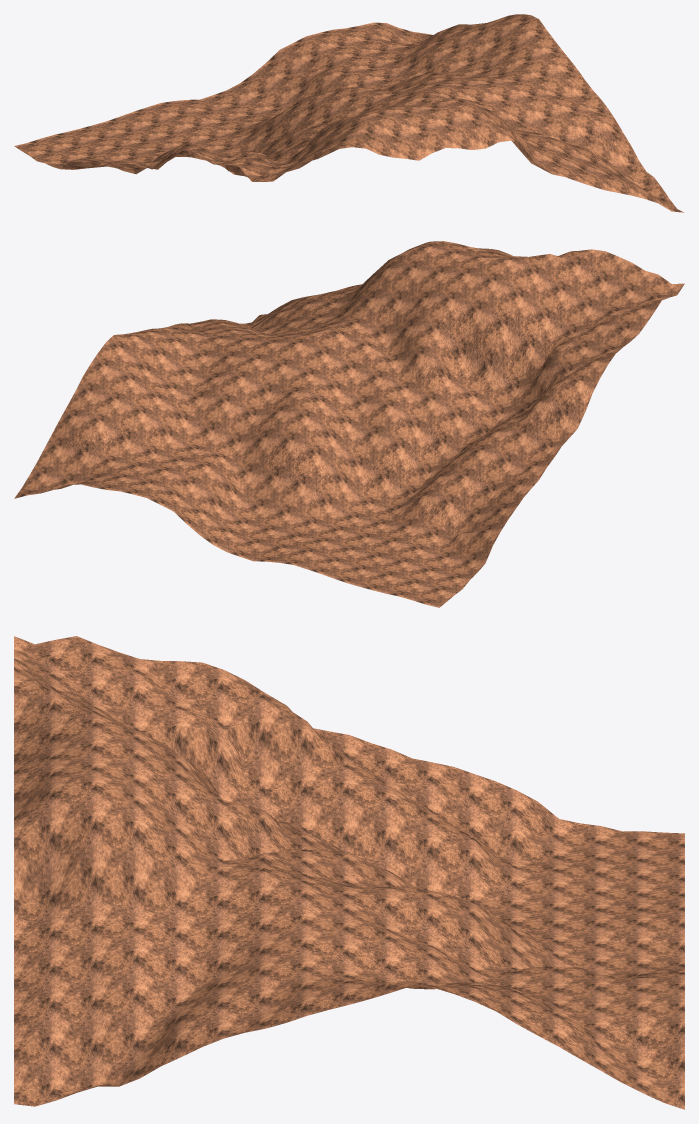
Rendered from terrain_06_04.dae.
The picture shows the model from 3 angles, top to bottom: view 1: azimuth 30°, elevation 25°; view 2: azimuth 150°, elevation 25°; view 3: azimuth 270°, elevation 25°; orthographic projection. The views are drawn at different scales.
Parts seen in each view (by area): view 1: terrain_06_04-node; view 2: terrain_06_04-node; view 3: terrain_06_04-node.
Part boxes in pixels (left/top/right/bottom): terrain_06_04-node: left=14, top=14, right=683, bottom=212; terrain_06_04-node: left=14, top=241, right=684, bottom=607; terrain_06_04-node: left=14, top=636, right=684, bottom=1109.
Size of the model in its own units: 128 by 128 by 45.29.
Materials: 1 (1 with a texture image).
